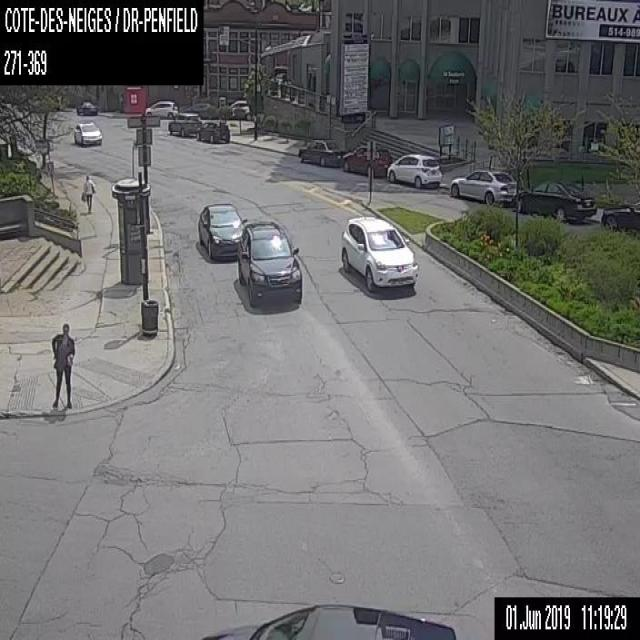pedestrian: (50, 323, 74, 405), (80, 173, 95, 211)
vehicle: (199, 602, 456, 638), (340, 215, 417, 292), (236, 218, 302, 306), (518, 178, 596, 222), (197, 201, 247, 260), (448, 168, 515, 205), (386, 153, 443, 189), (342, 146, 392, 178), (297, 136, 347, 165), (601, 200, 639, 231), (168, 111, 201, 136), (196, 121, 229, 143), (72, 120, 101, 144), (145, 98, 178, 119), (180, 102, 217, 118), (230, 98, 250, 120), (76, 98, 98, 115)
